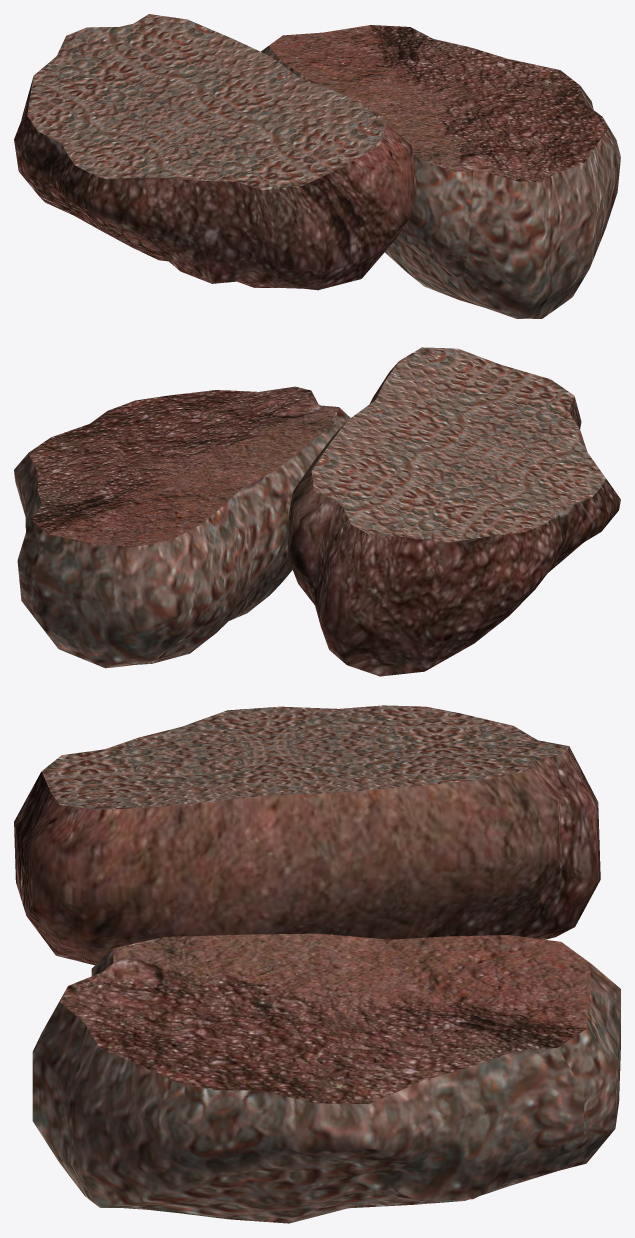
The model's file is zheshi.FBX.
3 views of the same model, one above another, from view 1: azimuth 30°, elevation 25°; view 2: azimuth 150°, elevation 25°; view 3: azimuth 270°, elevation 25° (orthographic). The views are drawn at different scales.
Visible parts, largest first — view 1: Line002, Line001; view 2: Line002, Line001; view 3: Line001, Line002.
Boxes of the visible parts, bbox=[...] form: Line002: bbox=[14, 14, 417, 290]; Line001: bbox=[261, 25, 620, 318]; Line002: bbox=[286, 347, 620, 676]; Line001: bbox=[14, 386, 350, 668]; Line001: bbox=[32, 933, 620, 1223]; Line002: bbox=[14, 705, 600, 965].
Size of the model in its own units: 50.14 by 22.48 by 38.11.
1 material, 1 textured.
